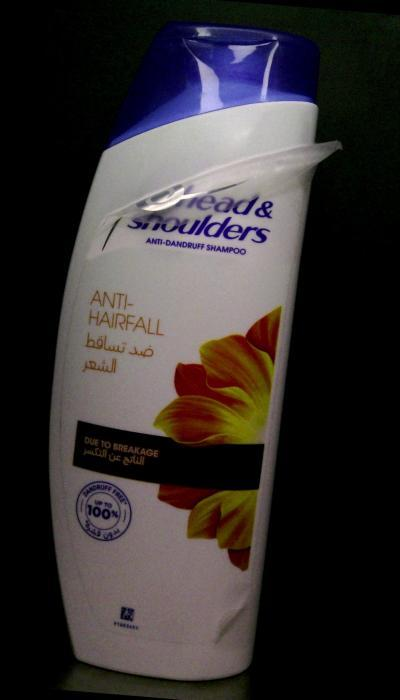adhesion_unacc: (94, 118, 347, 246), (208, 589, 251, 649)
